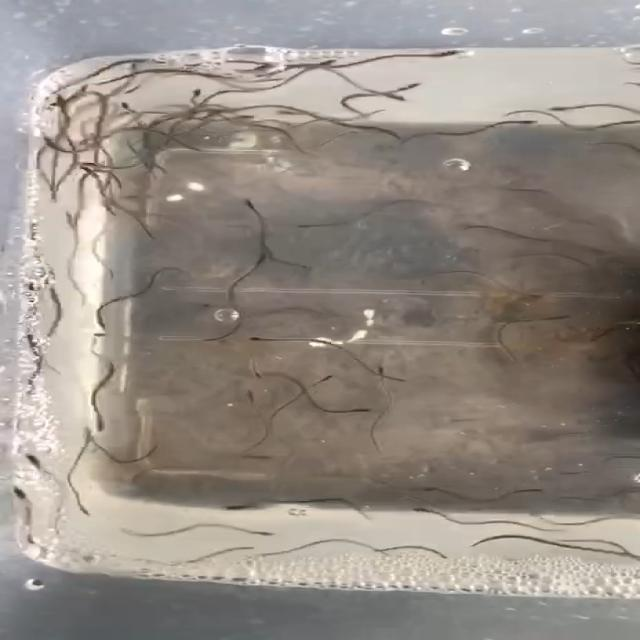inactive_glass_eel: (364, 85, 430, 110), (238, 196, 278, 220), (240, 384, 276, 409), (242, 332, 283, 352), (400, 81, 438, 99), (338, 398, 376, 416), (510, 114, 544, 134), (238, 523, 284, 537), (307, 370, 341, 388), (75, 157, 109, 175), (427, 49, 465, 65), (307, 57, 339, 76), (20, 450, 46, 473), (84, 317, 115, 336), (538, 98, 565, 118), (294, 216, 322, 235), (545, 312, 576, 328), (217, 499, 251, 513), (459, 215, 484, 234), (238, 364, 264, 382), (370, 362, 400, 376), (85, 415, 116, 428), (51, 88, 70, 107), (111, 99, 134, 113), (72, 502, 92, 518), (413, 477, 433, 493), (406, 504, 431, 516), (78, 85, 102, 97), (10, 486, 30, 499), (189, 86, 202, 100), (126, 61, 140, 73)
